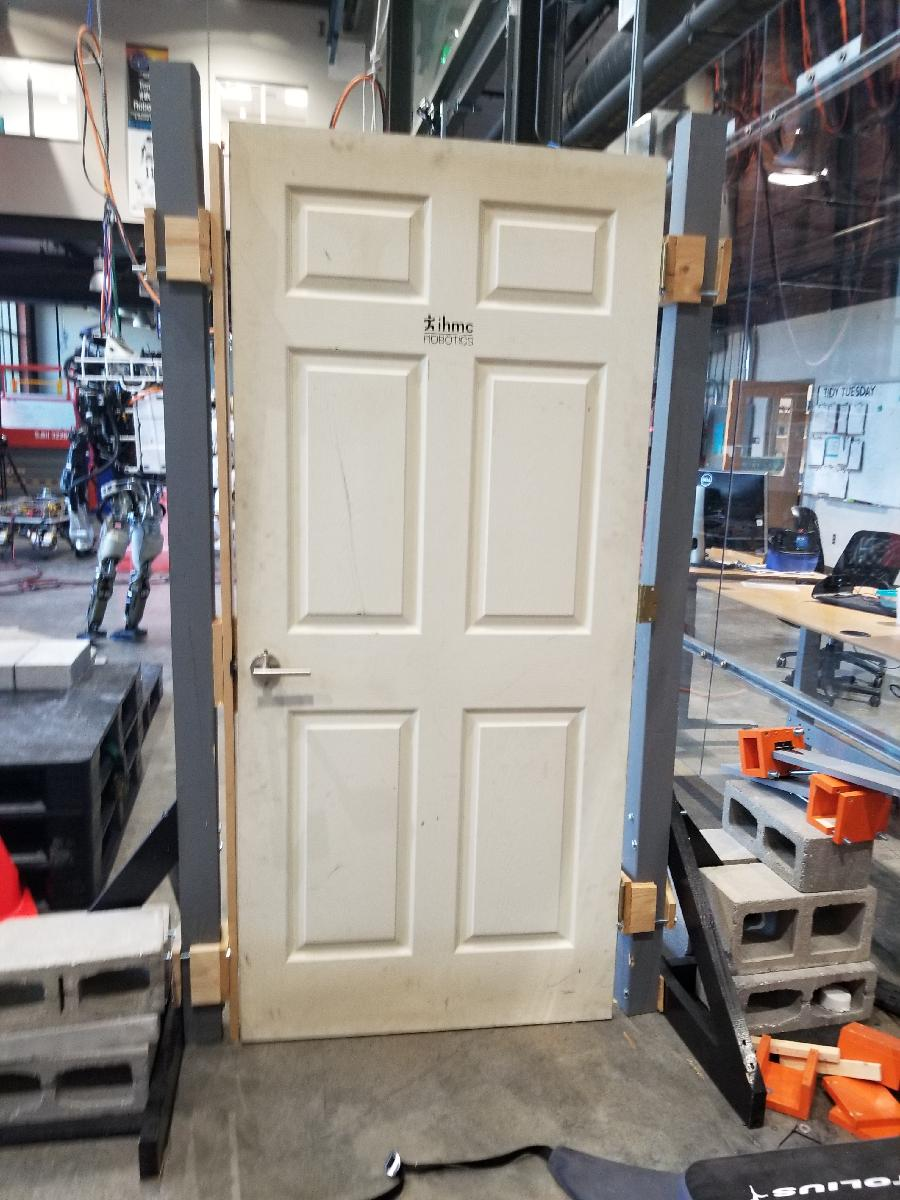door: (221, 114, 672, 1065)
doorHandle: (242, 650, 320, 689)
